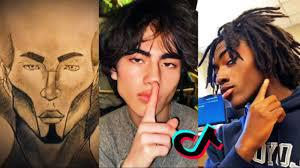mewing: (5, 28, 96, 144), (110, 9, 184, 121), (213, 31, 269, 111)
